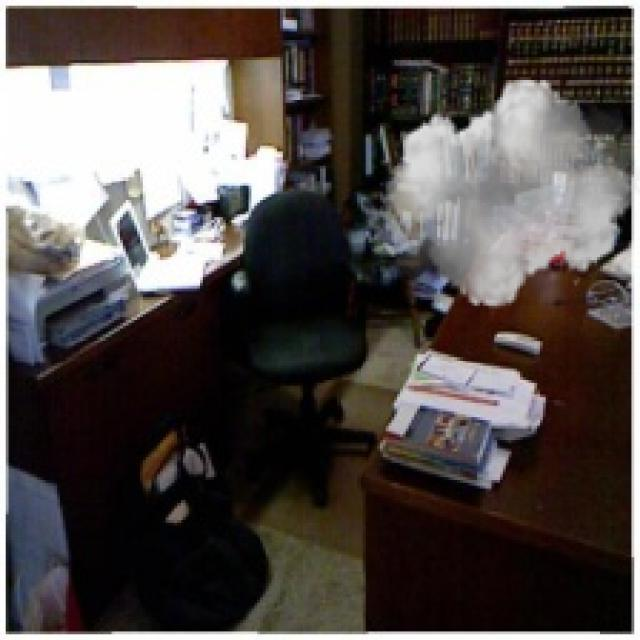Smoke: (380, 68, 637, 320)
